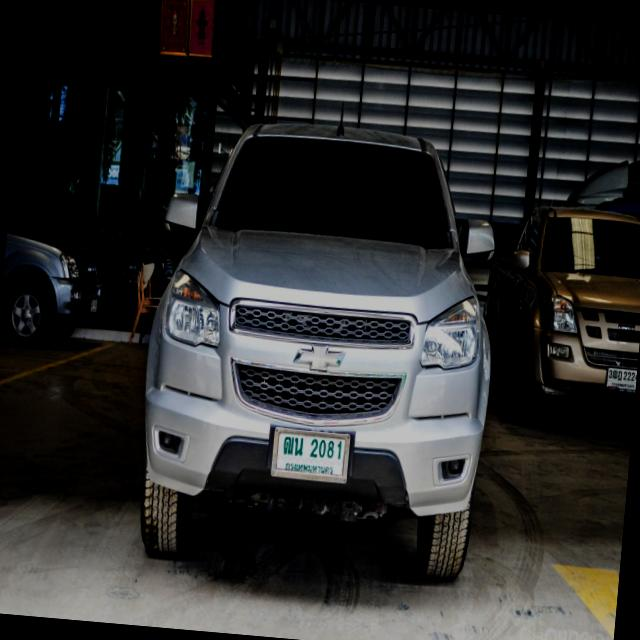license_plate: (268, 426, 352, 486)
